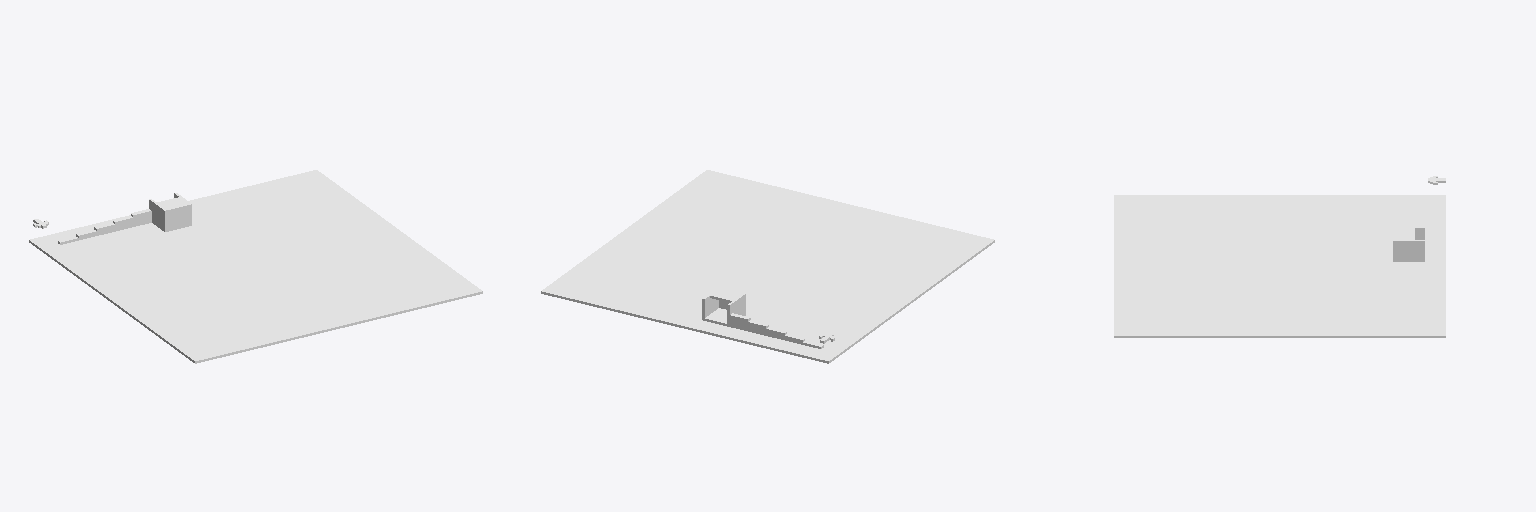
Rendered from prototype_floor.obj.
3 views of the same model, side by side, from view 1: azimuth 30°, elevation 25°; view 2: azimuth 150°, elevation 25°; view 3: azimuth 270°, elevation 25° (orthographic).
Visible parts, largest first — view 1: prototype_floor; view 2: prototype_floor; view 3: prototype_floor.
Boxes of the visible parts, box(x1,y1,x2,y2) form: prototype_floor: box(29, 170, 482, 363); prototype_floor: box(541, 170, 994, 363); prototype_floor: box(1114, 176, 1445, 337).
Size of the model in its own units: 126 by 10 by 126.